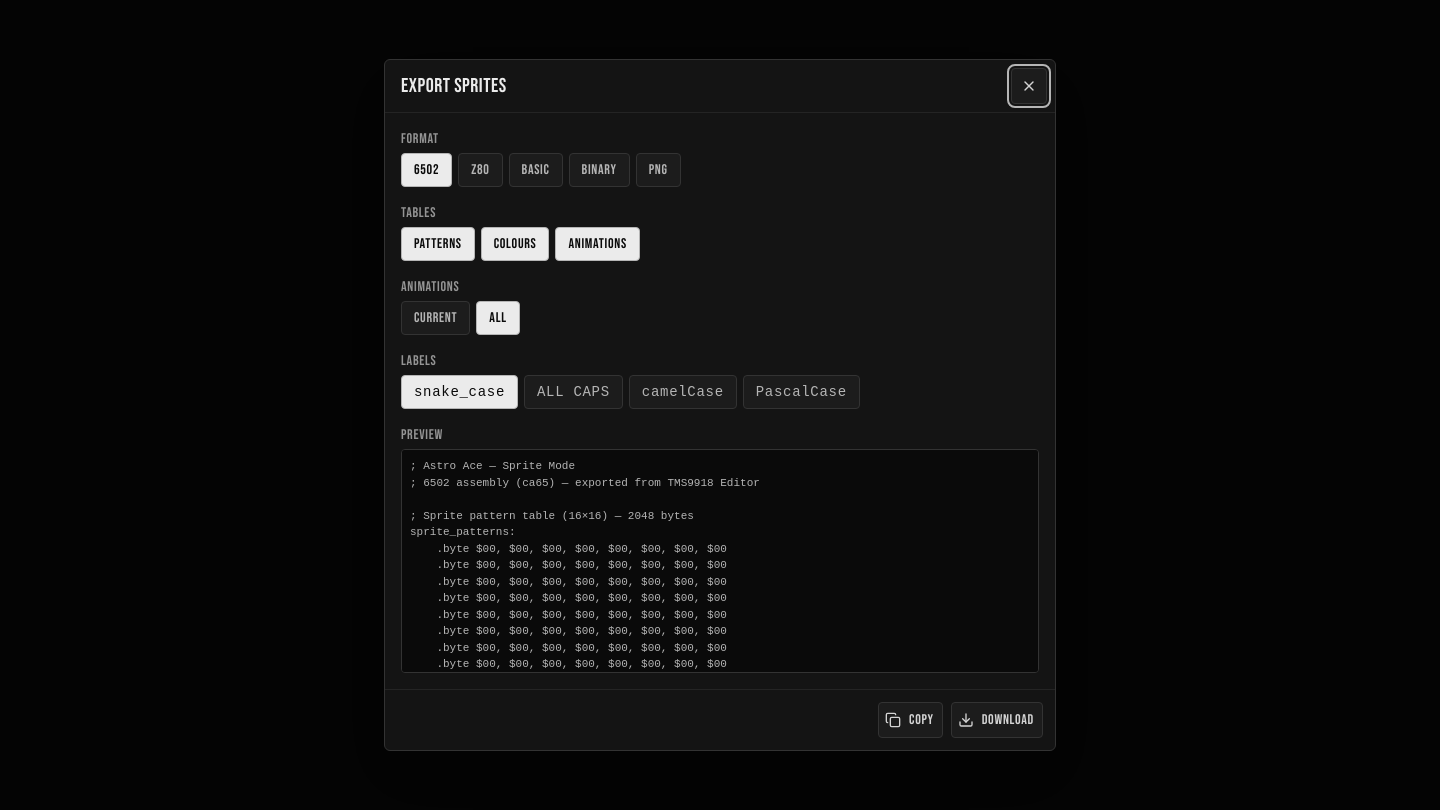
ExportDialog (sprite scope) › reports the binary byte count for the selected tables
What coordinates should you click on to do the following:
click the button "Binary"
I would click on:
 (599, 170)
Its box is [569, 153, 630, 187].
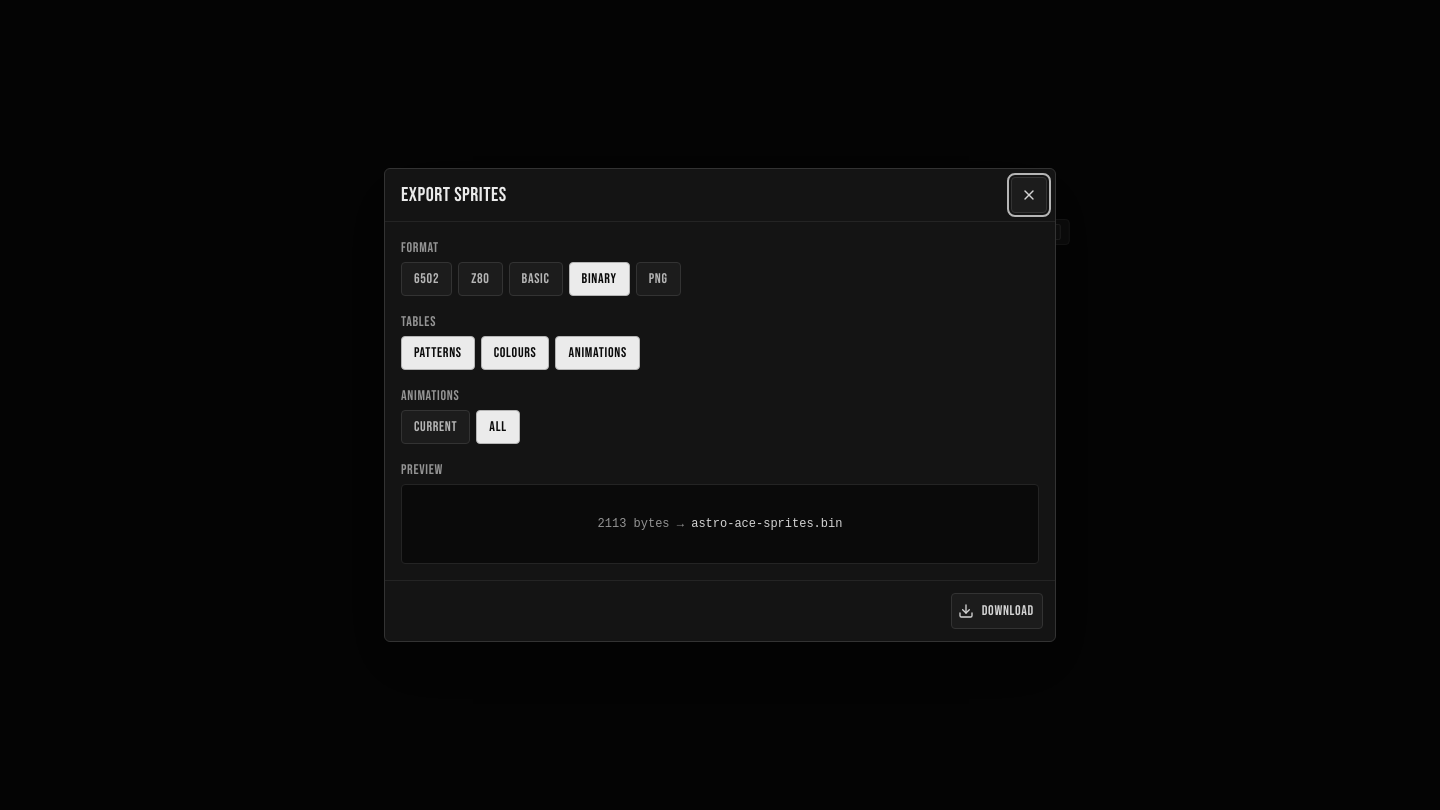
Result: the text "2113 bytes" is shown at [598, 517, 691, 531]
Result: the text "astro-ace-sprites.bin" is shown at [691, 517, 842, 531]
